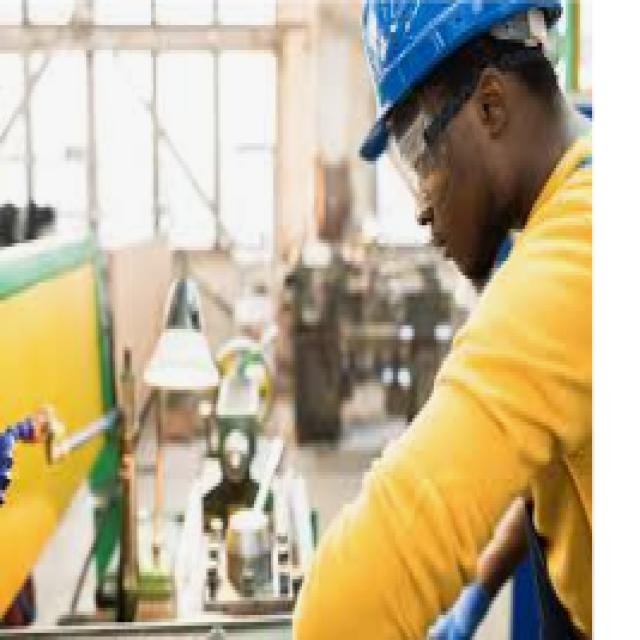glasses: (381, 106, 475, 190)
